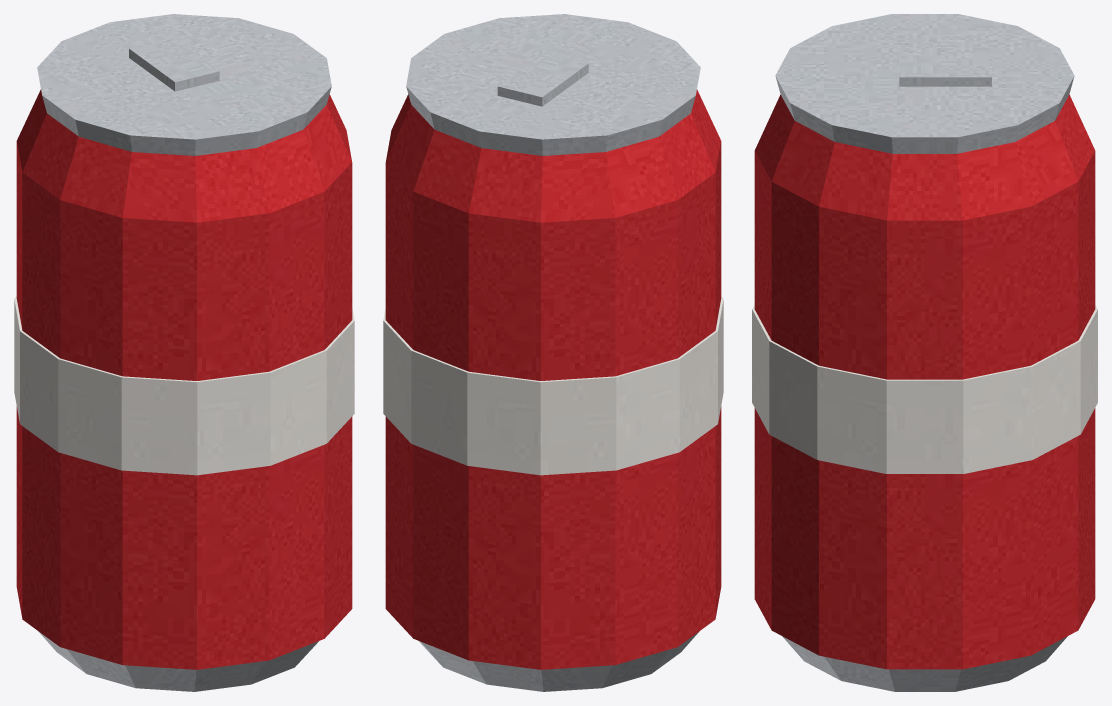
3 renders of one model, left to right at view 1: azimuth 30°, elevation 25°; view 2: azimuth 150°, elevation 25°; view 3: azimuth 270°, elevation 25°, orthographic.
Visible parts, largest first — view 1: soda_can; view 2: soda_can; view 3: soda_can.
Part boxes in pixels (x1=…): soda_can: x1=14, y1=14, x2=354, y2=691; soda_can: x1=383, y1=14, x2=723, y2=691; soda_can: x1=752, y1=14, x2=1097, y2=691.
Size of the model in its own units: 0.0653 by 0.122 by 0.067.
Materials: 3 (3 with a texture image).
